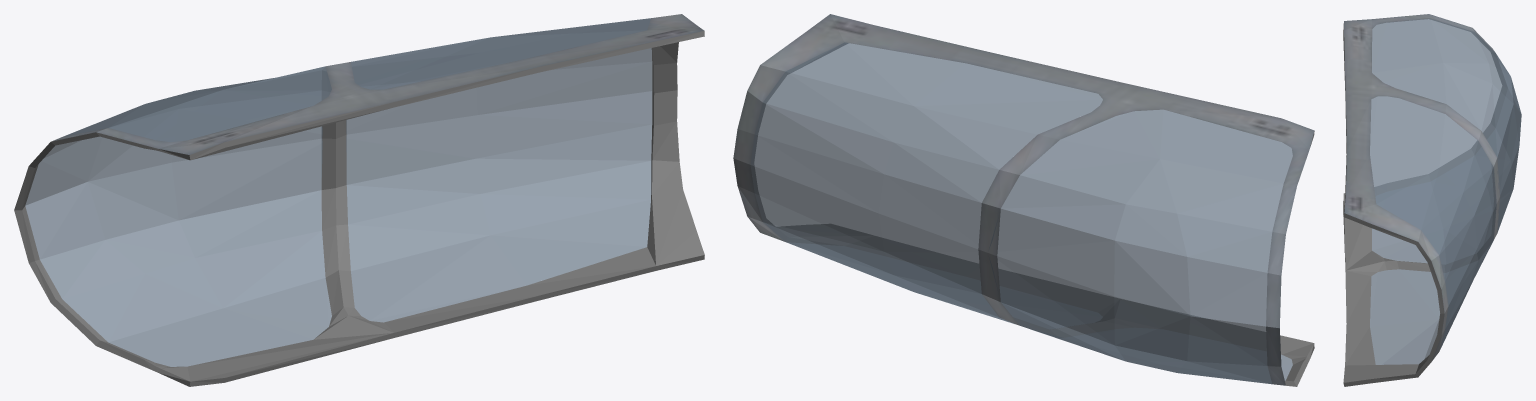
File: cockpit.fbx
3 views of the same model, side by side, from view 1: azimuth 30°, elevation 25°; view 2: azimuth 150°, elevation 25°; view 3: azimuth 270°, elevation 25° (orthographic). The views are drawn at different scales.
Visible parts, largest first — view 1: ShapeIndexedFaceSet_001, ShapeIndexedFaceSet_002, ShapeIndexedFaceSet; view 2: ShapeIndexedFaceSet_001, ShapeIndexedFaceSet, ShapeIndexedFaceSet_002; view 3: ShapeIndexedFaceSet_001, ShapeIndexedFaceSet, ShapeIndexedFaceSet_002.
Part boxes in pixels (bbox=[...]): ShapeIndexedFaceSet_001: bbox=[25, 18, 652, 366]; ShapeIndexedFaceSet_002: bbox=[14, 31, 704, 386]; ShapeIndexedFaceSet: bbox=[51, 14, 704, 154]; ShapeIndexedFaceSet_001: bbox=[750, 42, 1292, 384]; ShapeIndexedFaceSet: bbox=[733, 14, 1314, 385]; ShapeIndexedFaceSet_002: bbox=[751, 43, 1314, 386]; ShapeIndexedFaceSet_001: bbox=[1370, 18, 1521, 364]; ShapeIndexedFaceSet: bbox=[1344, 14, 1500, 361]; ShapeIndexedFaceSet_002: bbox=[1343, 19, 1507, 386].
Bounding box in the file's own units: 2.44 × 0.9019 × 0.7978.
